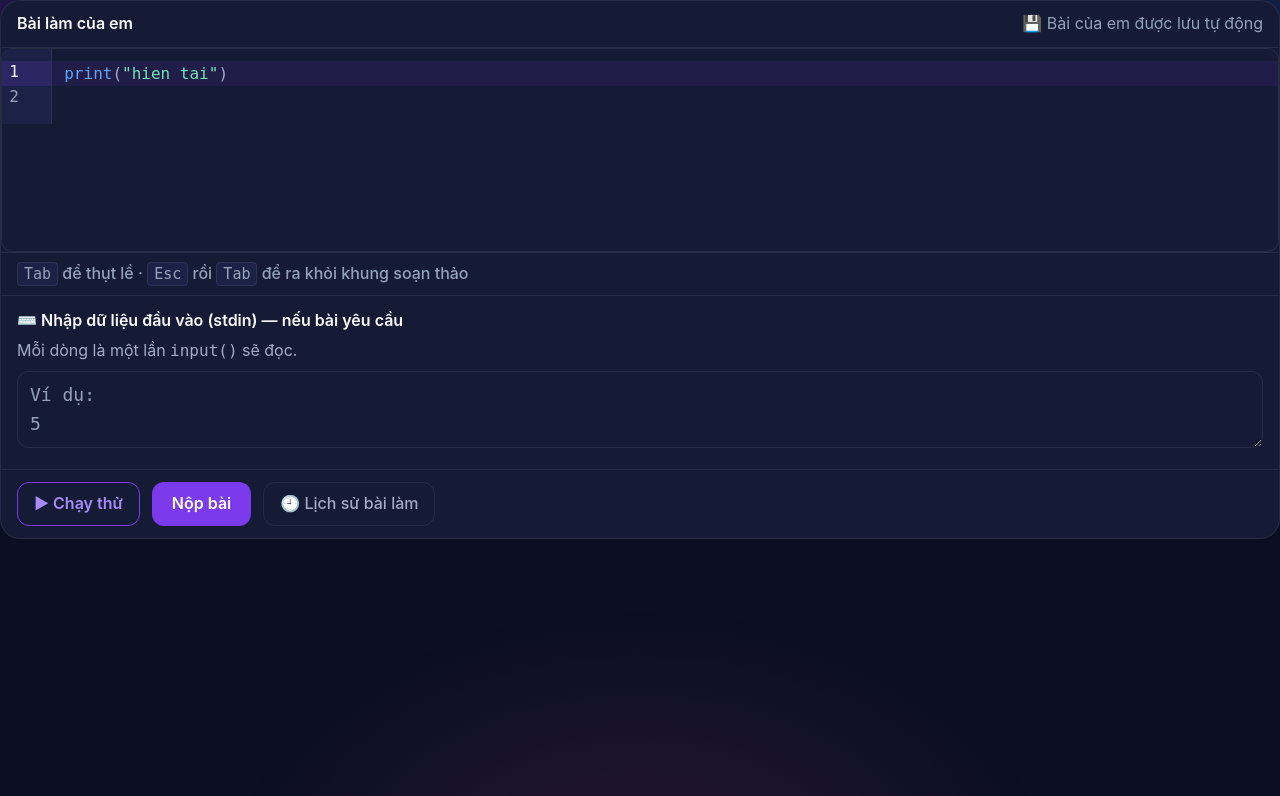
Test: Khu làm bài › mở được lịch sử và liệt kê các bản đã lưu
Click the button "🕘 Lịch sử bài làm" at (349, 504), box [263,482,436,526]
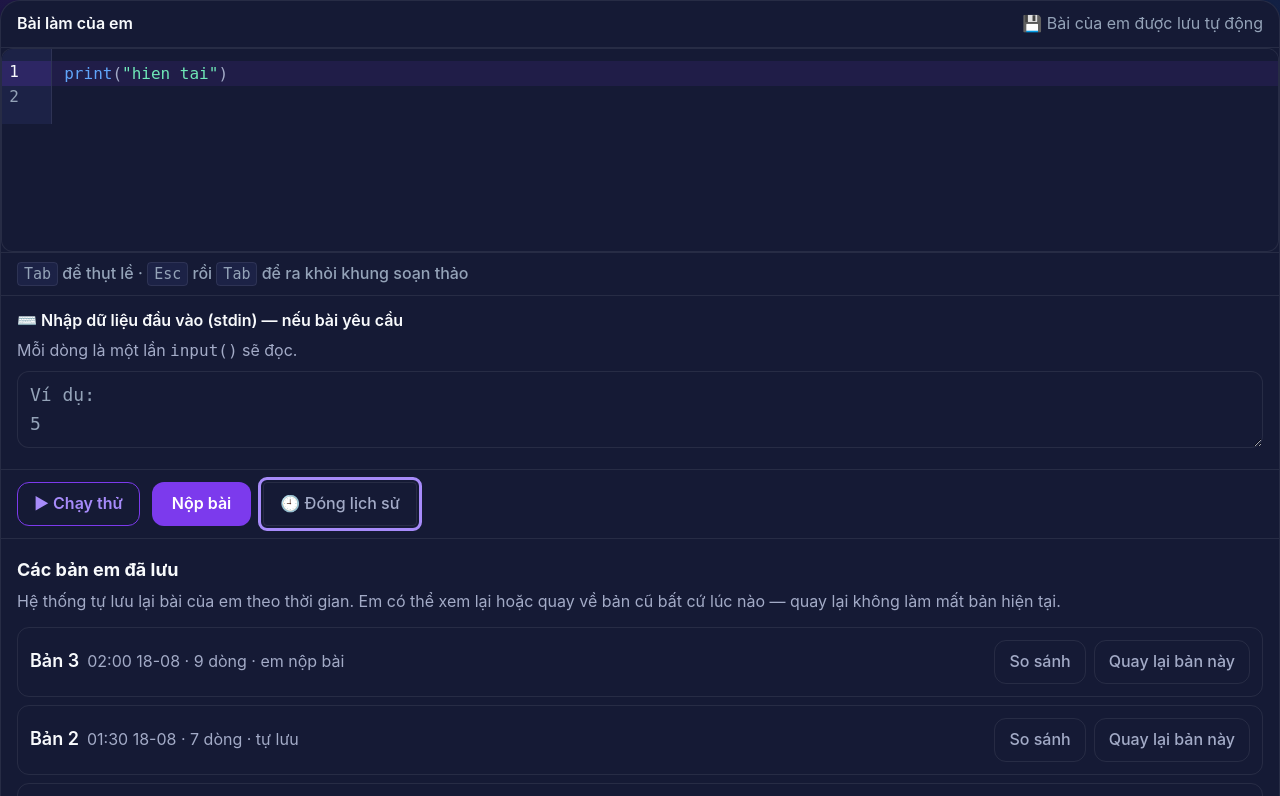
expect the text "Bản 3" is shown: met, box [30,650,79,671]
expect the text "02:00 18-08 · 9 dòng · em nộp bài" is shown: met, box [87,651,344,671]
